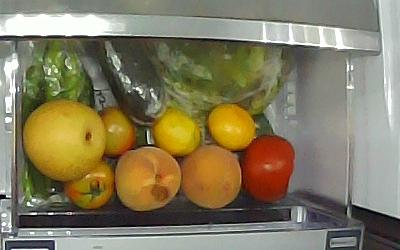peach: (112, 143, 182, 211), (178, 143, 242, 209)
pear: (22, 97, 107, 180)
tangerine: (206, 101, 256, 150), (151, 106, 201, 155)
tomato: (237, 133, 295, 202), (62, 158, 114, 209), (96, 104, 135, 155)
